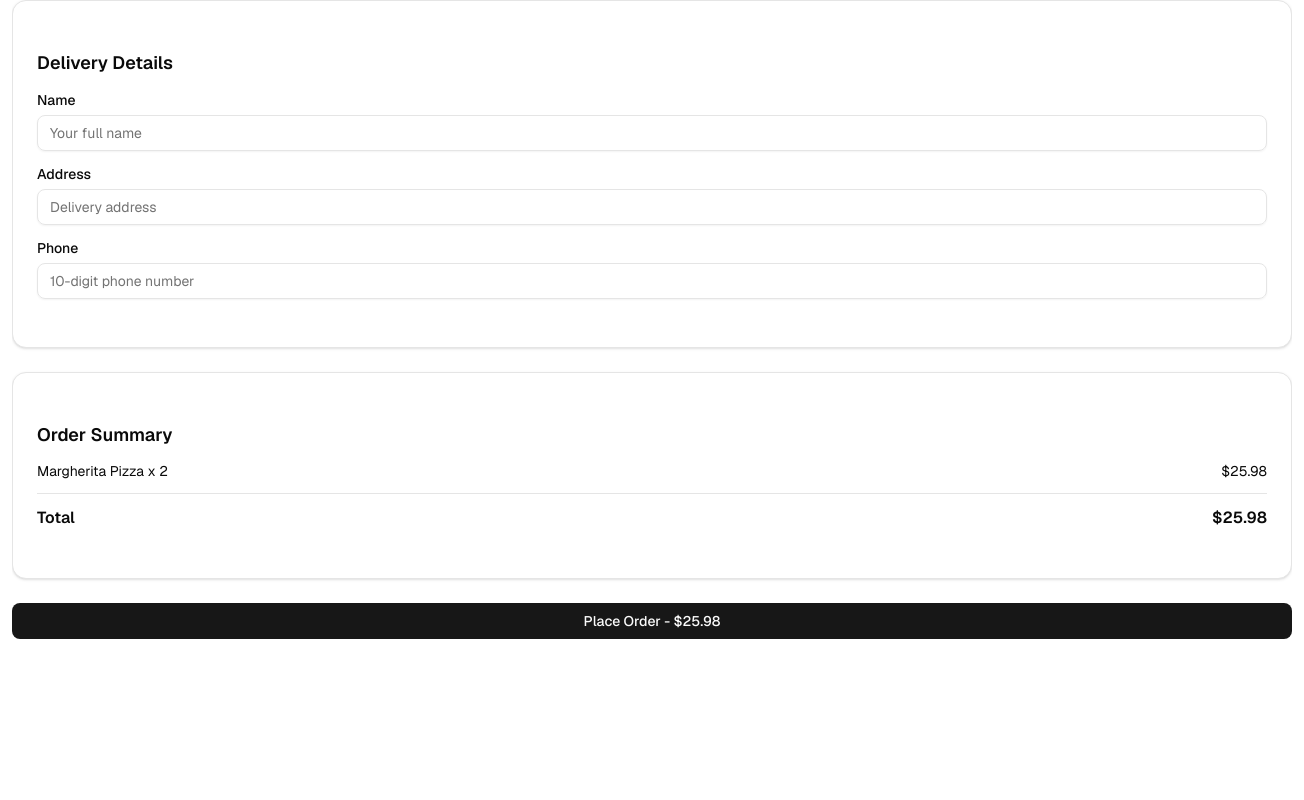
Test case: Checkout flow › shows API error message on failure
Type "John Doe" into the field with placeholder "Your full name". click: [652, 133]
box: 37,115 -> 1267,151
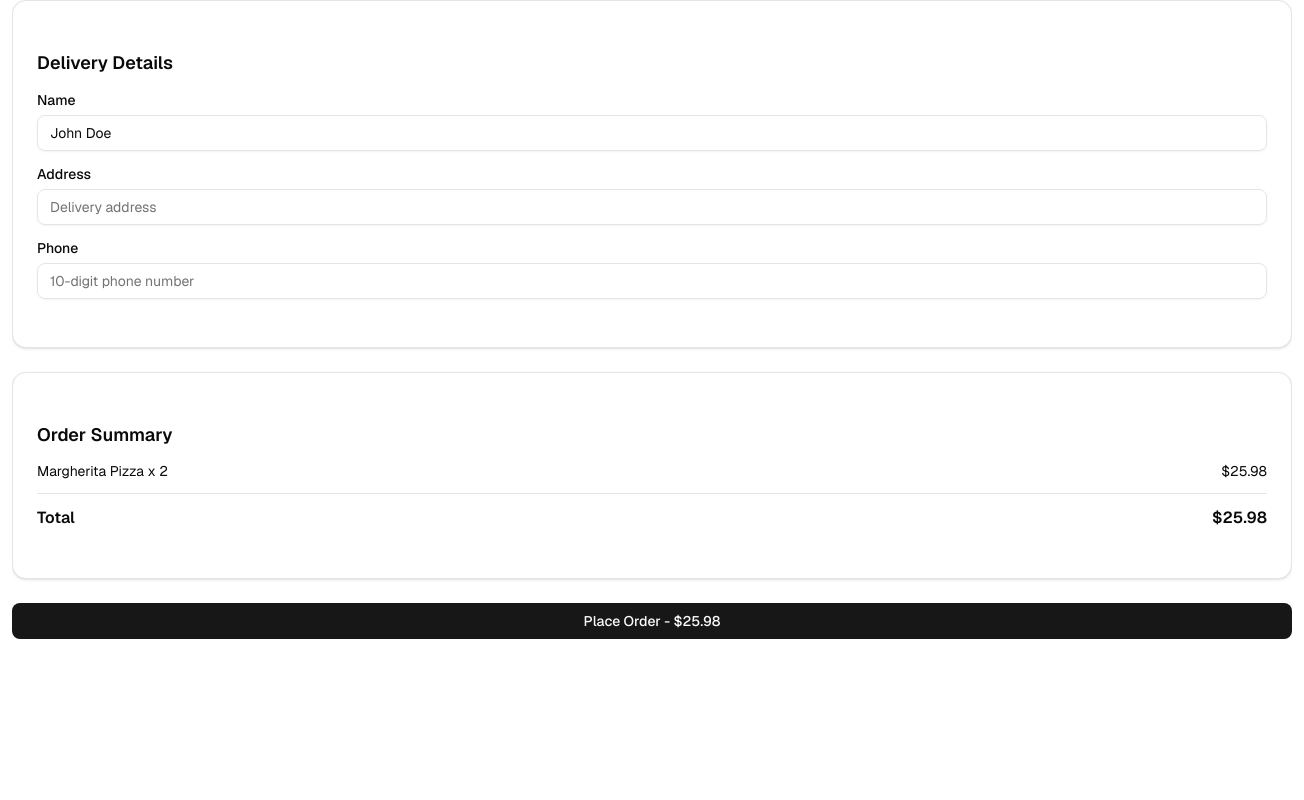
Type "123 Main Street" into the field with placeholder "Delivery address". click: [652, 207]
box: 37,189 -> 1267,225
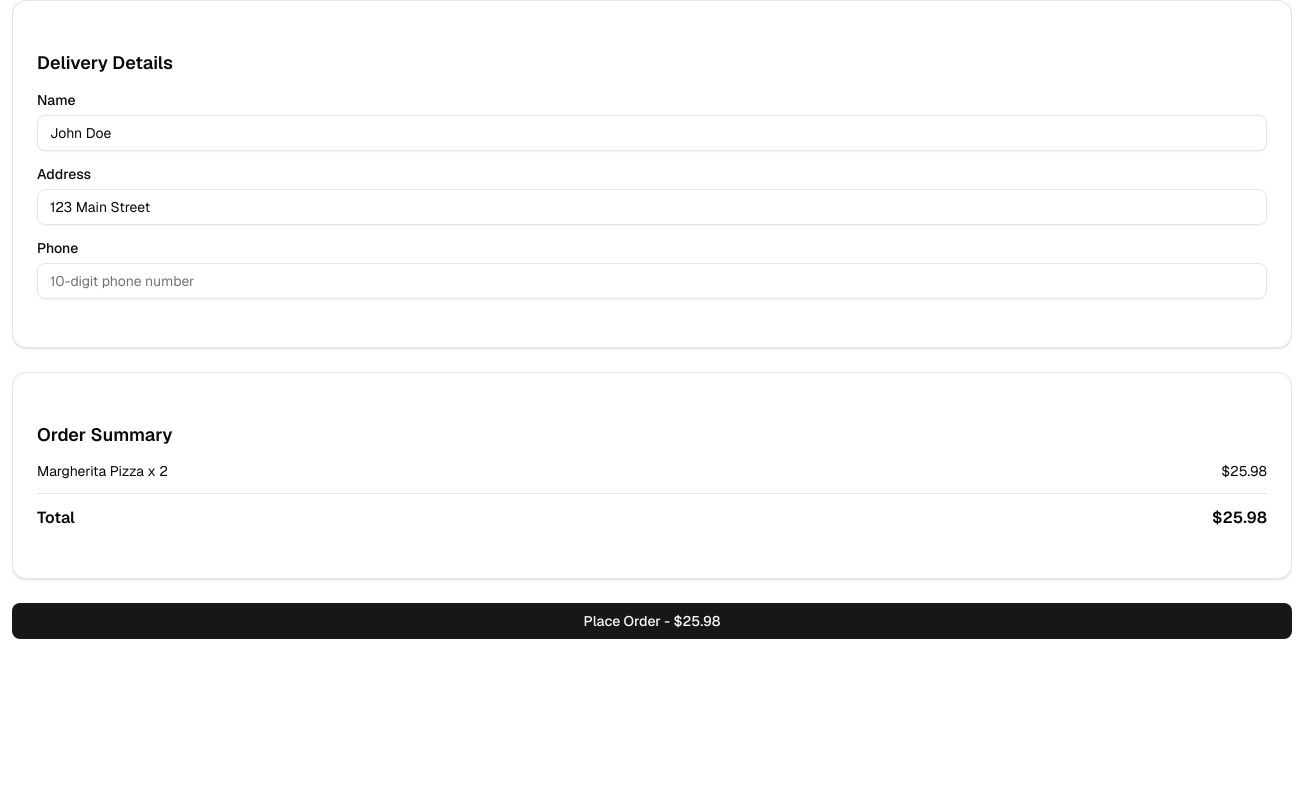
Type "1234567890" into the field with placeholder "10-digit phone number". click: [652, 281]
box: 37,263 -> 1267,299
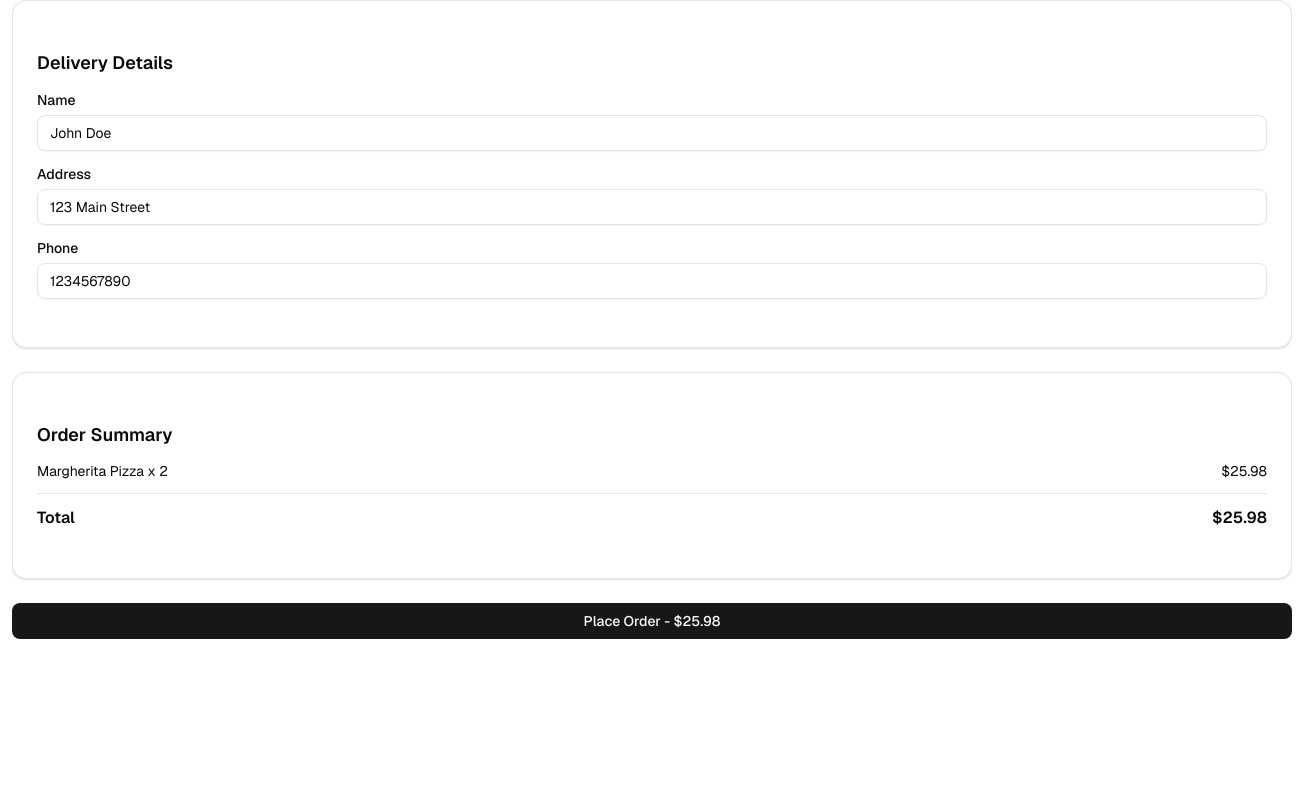
Click the button "Place Order - $25.98". click: [652, 621]
box: 12,603 -> 1292,639
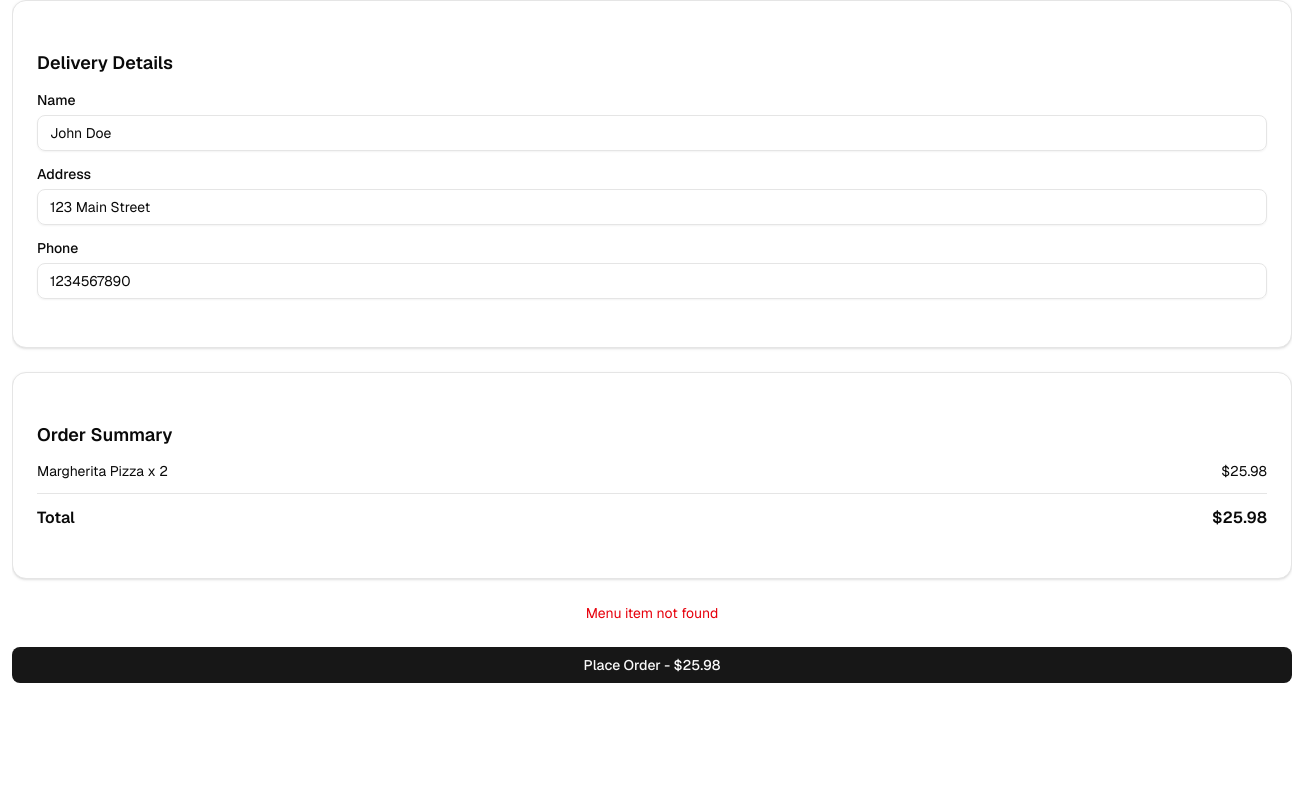
Check: the text "Menu item not found" is shown, box 586,604 -> 718,622
